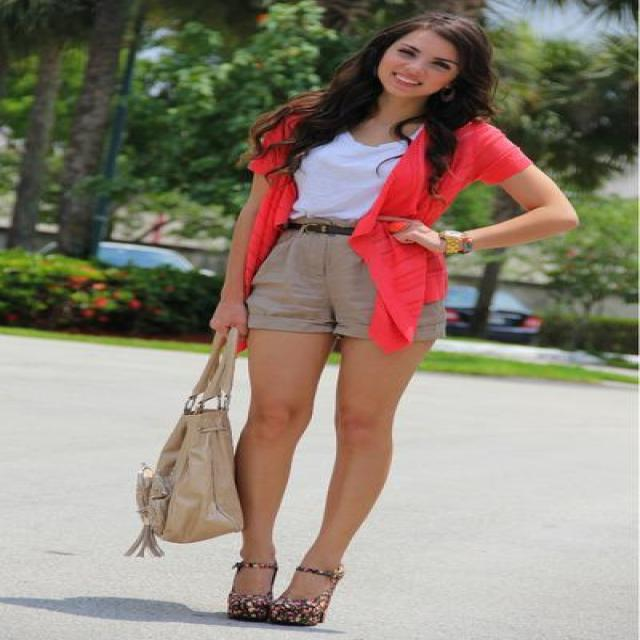bag: (125, 330, 246, 556)
jacket: (212, 104, 534, 355)
shirt: (292, 141, 406, 216)
shoe: (227, 599, 323, 626)
shorts: (248, 227, 475, 356)
